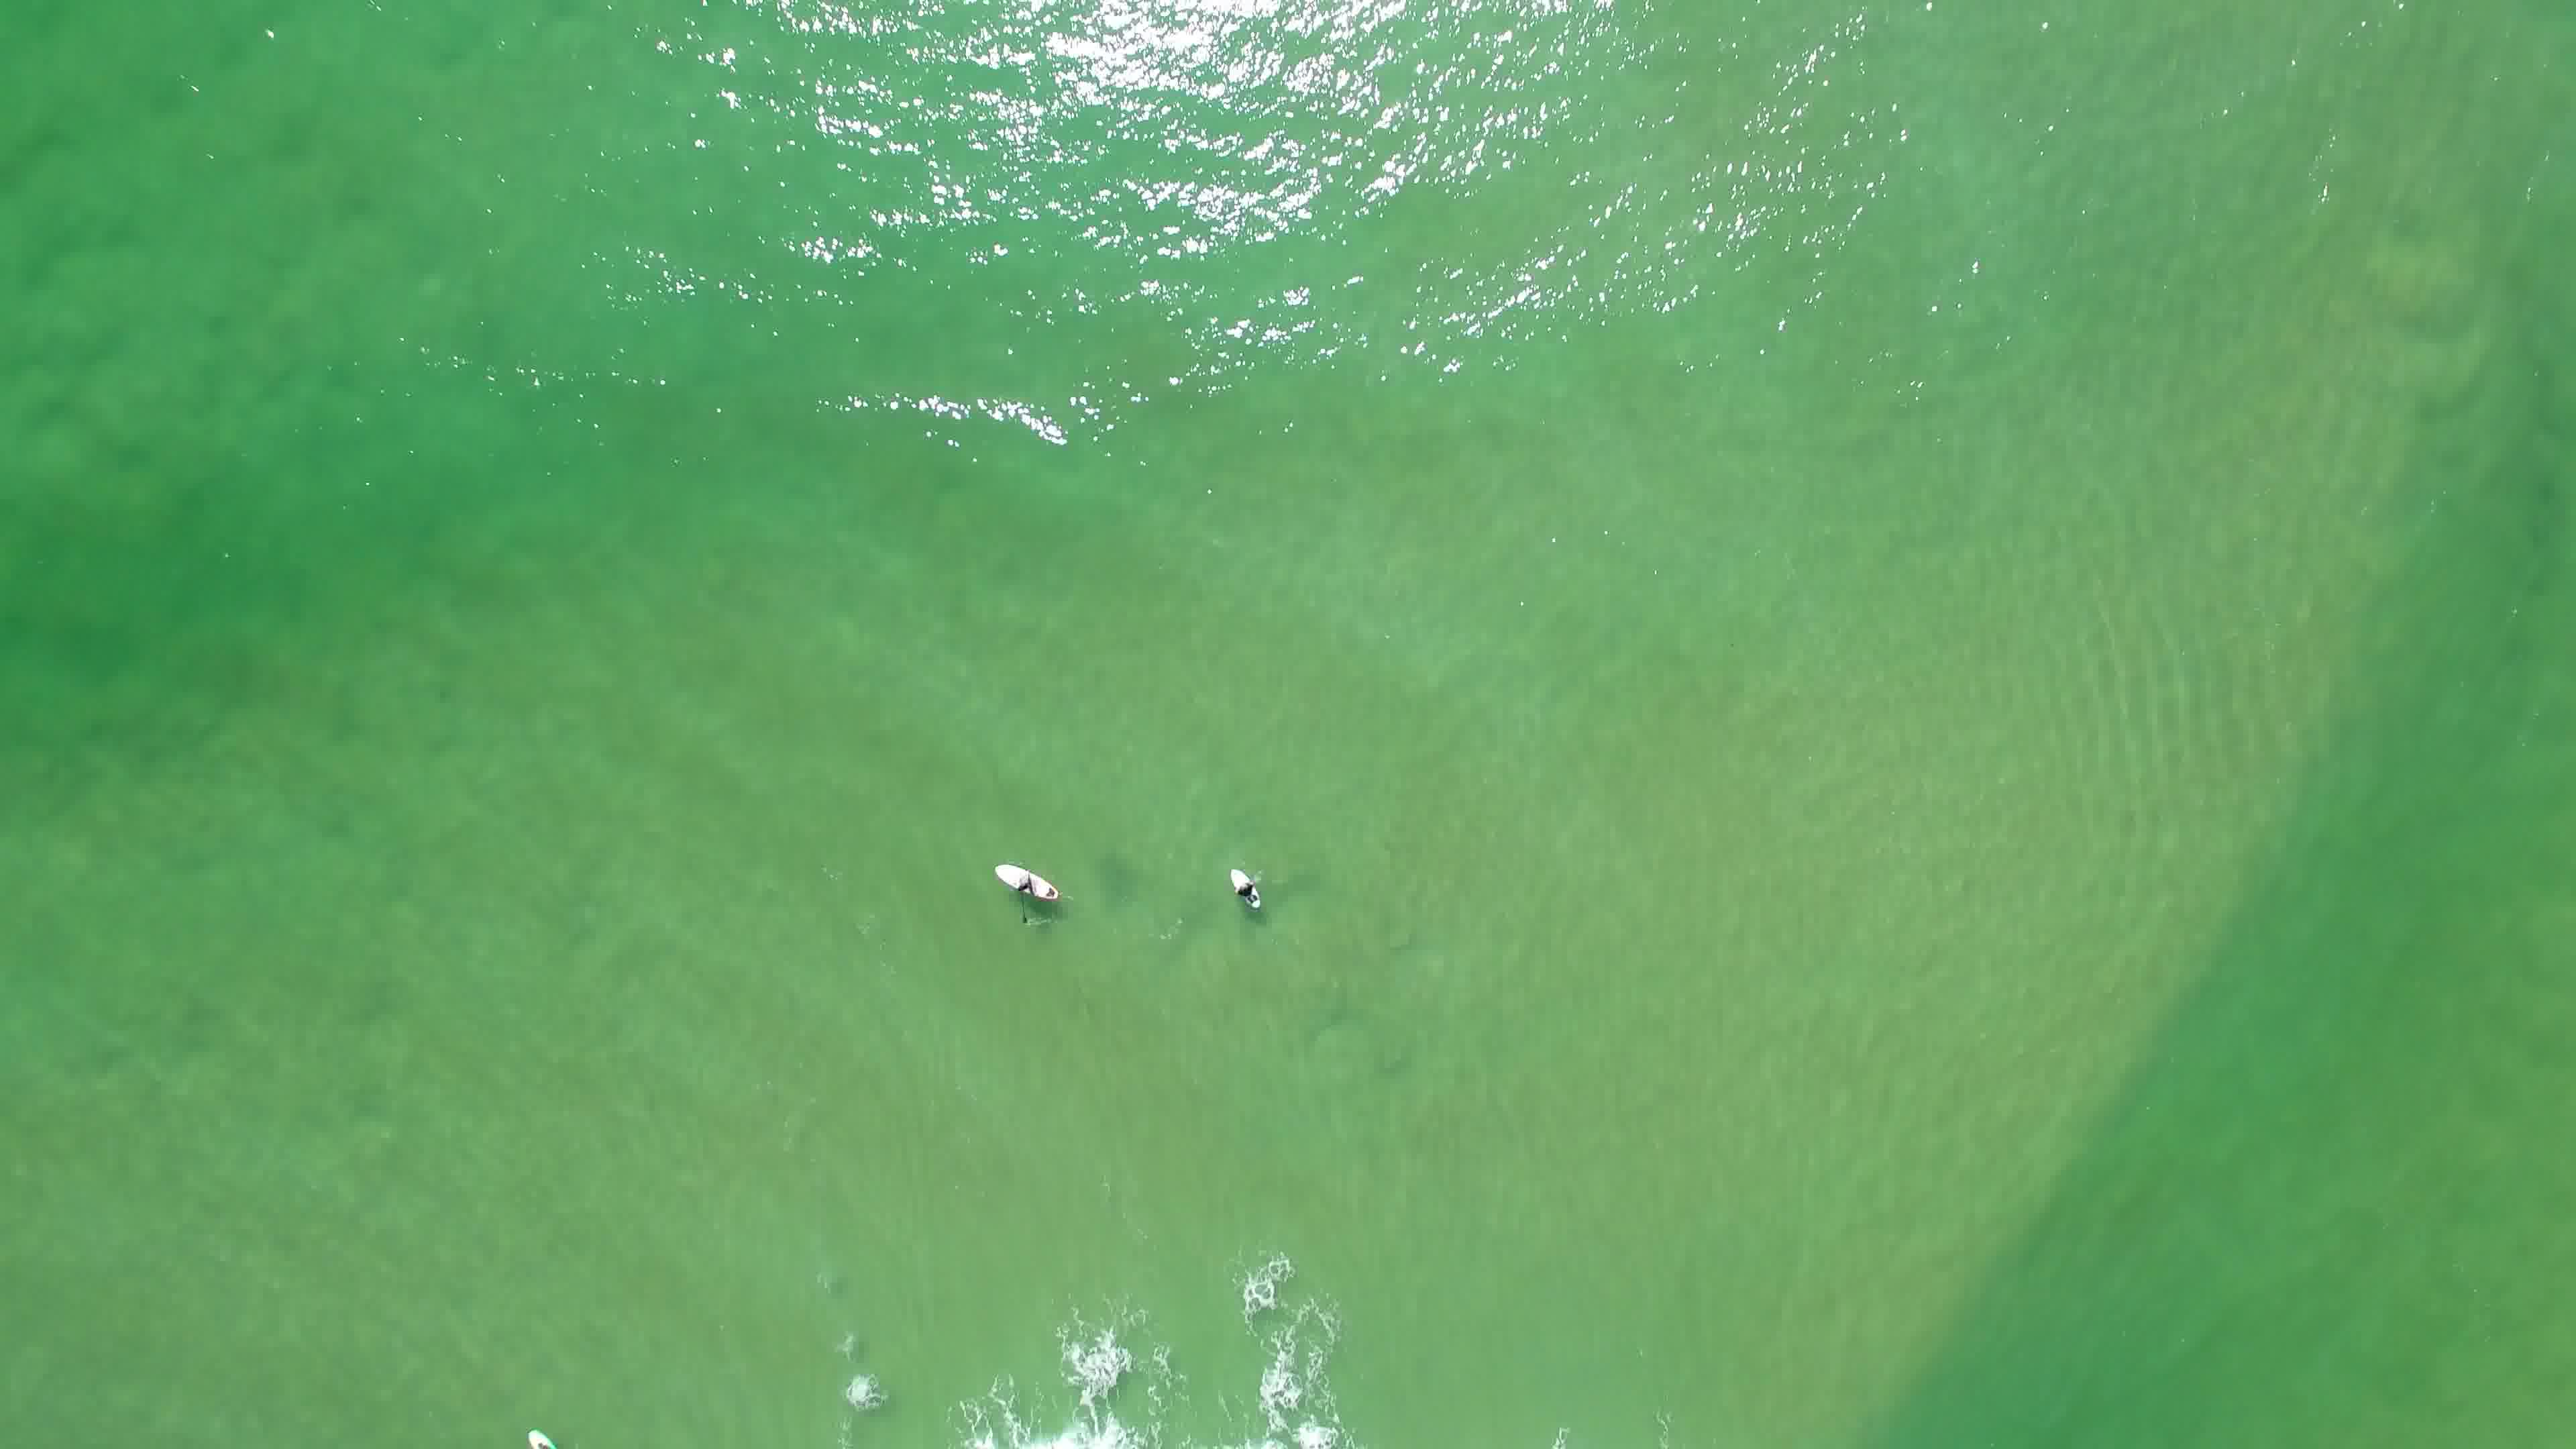surfer: (989, 856, 1065, 931), (1224, 860, 1272, 915), (518, 1421, 570, 1449)
